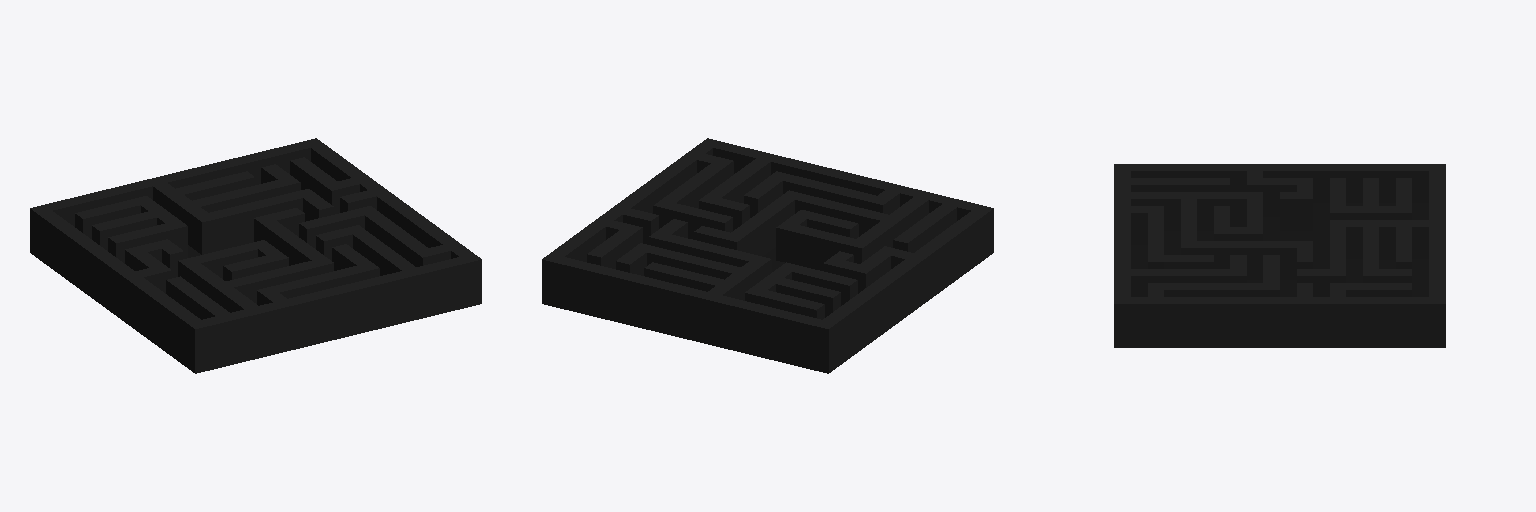
The model's file is Laberinto2.obj.
3 views of the same model, side by side, from view 1: azimuth 30°, elevation 25°; view 2: azimuth 150°, elevation 25°; view 3: azimuth 270°, elevation 25° (orthographic).
Parts seen in each view (by area): view 1: Box001; view 2: Box001; view 3: Box001.
Boxes of the visible parts, <box> form: Box001: <box>30,138,481,373</box>; Box001: <box>542,138,993,373</box>; Box001: <box>1114,164,1445,347</box>.
Bounding box in the file's own units: 1273 × 189 × 1273.